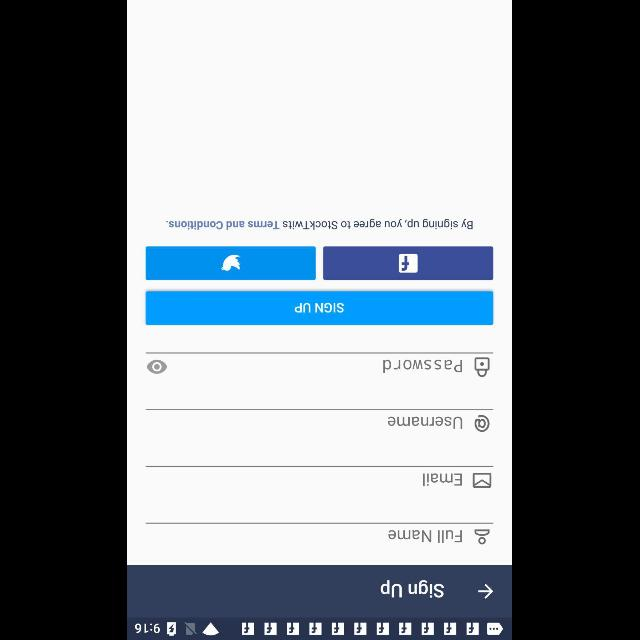icon: (473, 472, 492, 488), (148, 360, 168, 374), (476, 358, 490, 377), (478, 583, 494, 599), (476, 414, 490, 432), (476, 530, 490, 544)
input: (146, 352, 494, 378), (146, 408, 494, 432), (146, 466, 494, 488), (146, 522, 494, 544)
text: (166, 218, 474, 230), (381, 580, 445, 598), (389, 416, 463, 429), (384, 360, 464, 372), (389, 530, 463, 542), (423, 474, 462, 486)
textbutton: (146, 291, 494, 325), (324, 246, 494, 280), (147, 246, 317, 280)
toolbar: (128, 565, 512, 617)
uppertaskbar: (128, 617, 512, 639)
